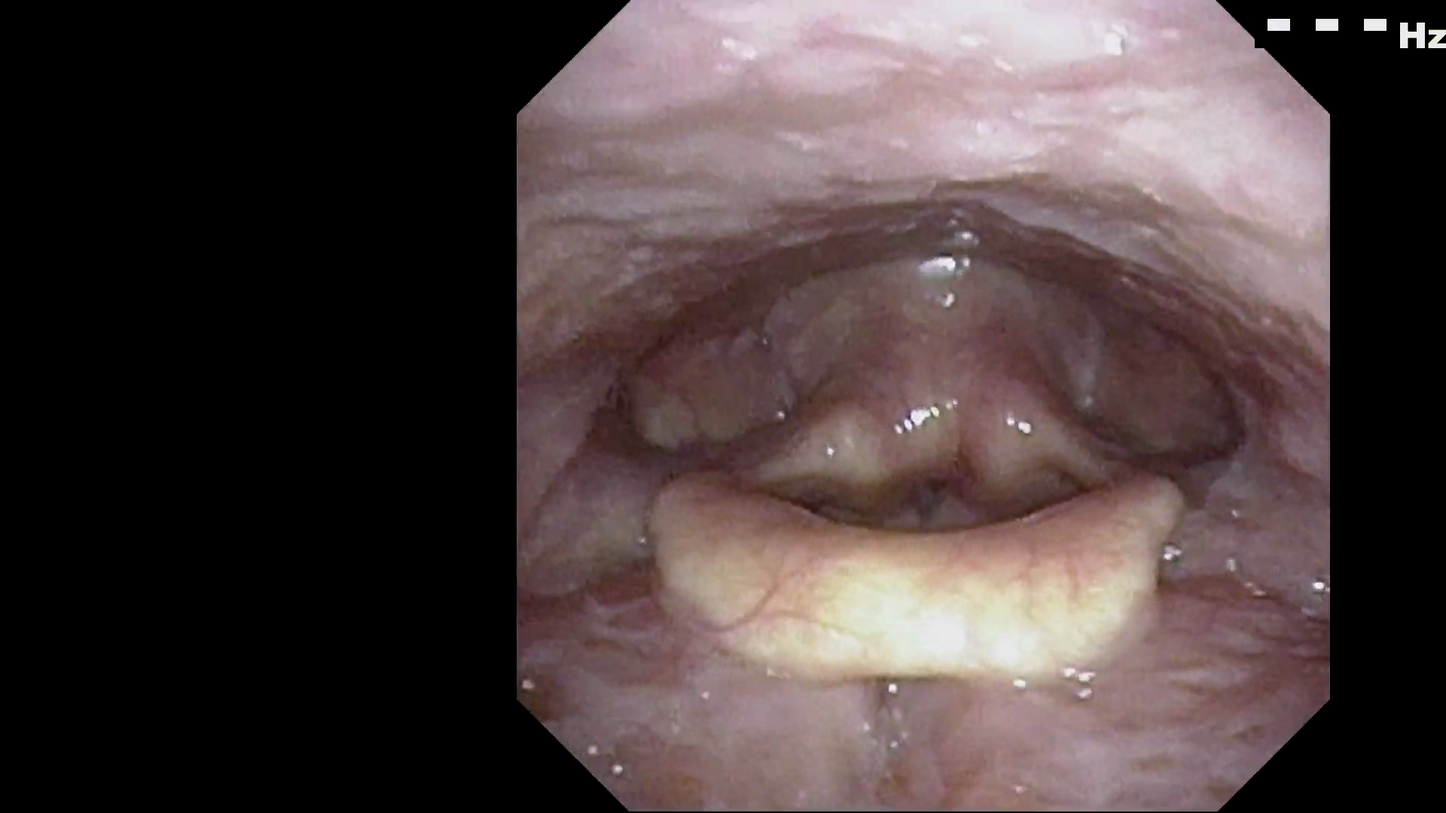epiglottis: (644, 446, 1193, 686)
trachea: (894, 466, 971, 557)
